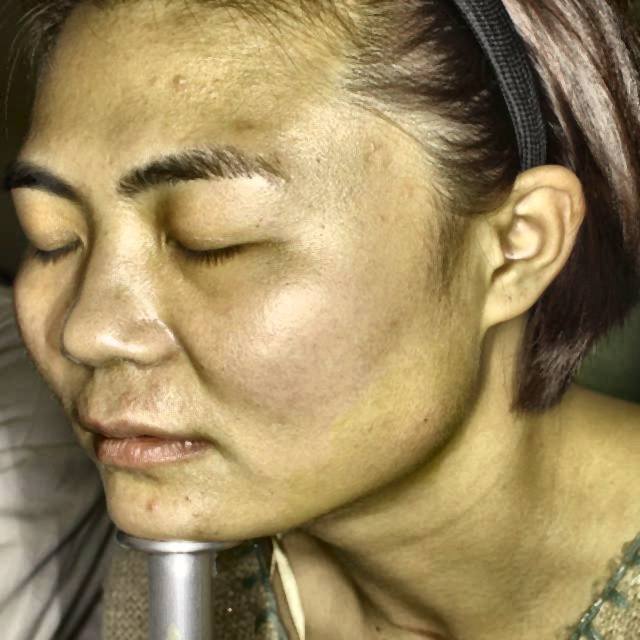comedone: (138, 492, 164, 525)
